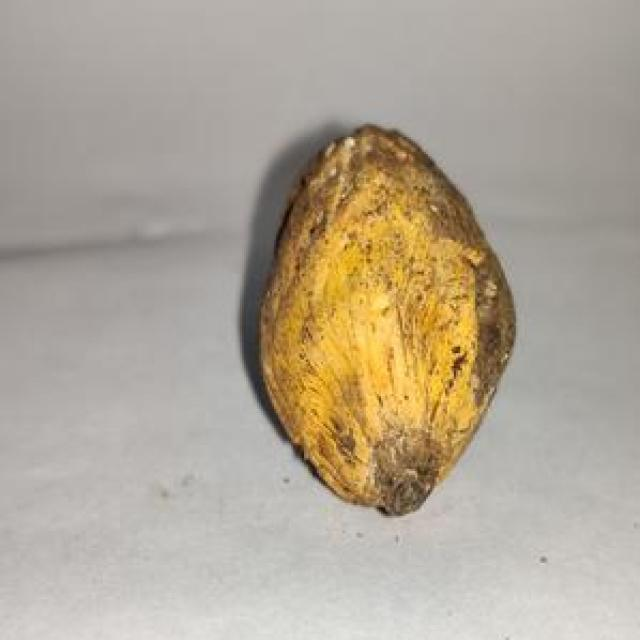damaged: (255, 124, 518, 520)
